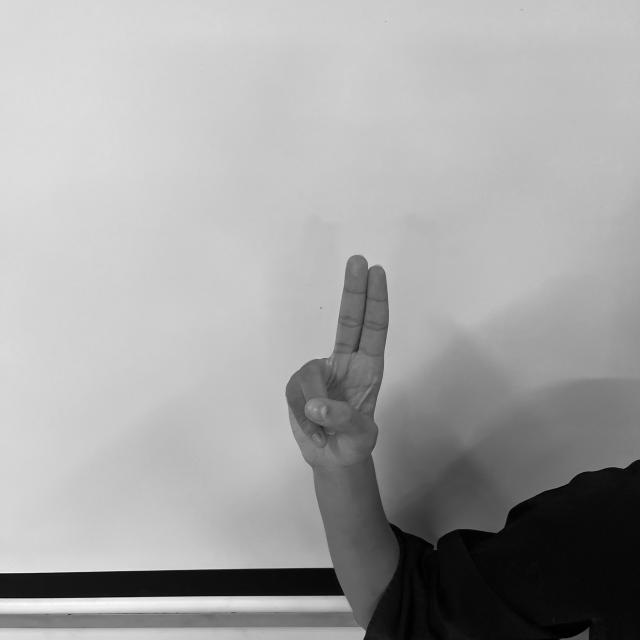Letra U: (279, 250, 397, 468)
